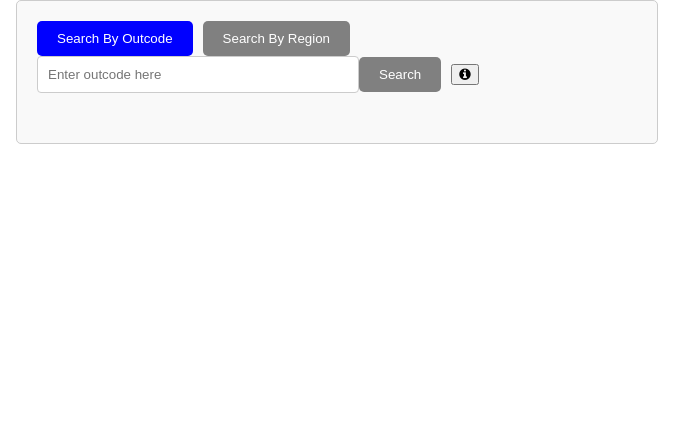
Scenario: SearchComponent › should fetch outcode data
This screenshot has width=675, height=444.
Note: When a valid outcode in input and the search button is clicked
Type "W1" into the field with placeholder "Enter outcode here" at (198, 74), box [37, 56, 359, 93]
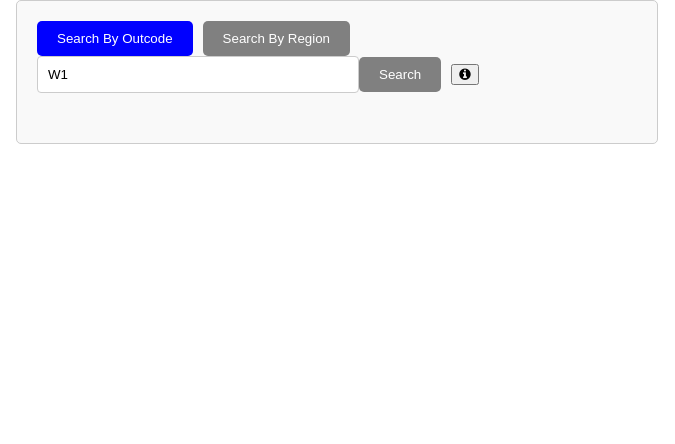
Click the button "Search" at (400, 74), box [359, 57, 441, 92]
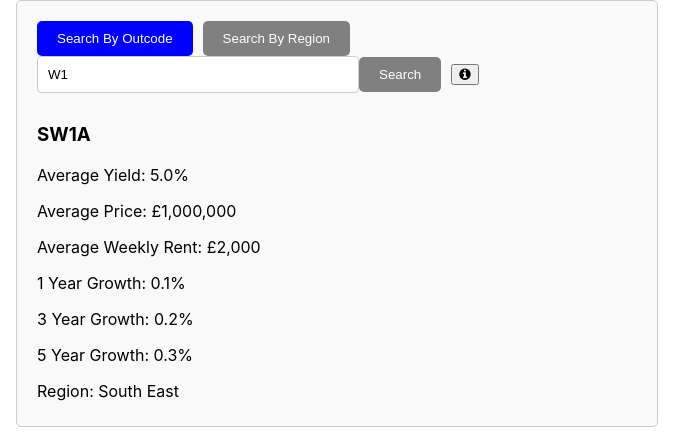
Now the text "Average Price: £1,000,000" is shown, box [37, 201, 236, 221]
Now the text "Average Weekly Rent: £2,000" is shown, box [37, 237, 261, 257]
Now the text "Average Yield: 5.0%" is shown, box [37, 165, 189, 185]
